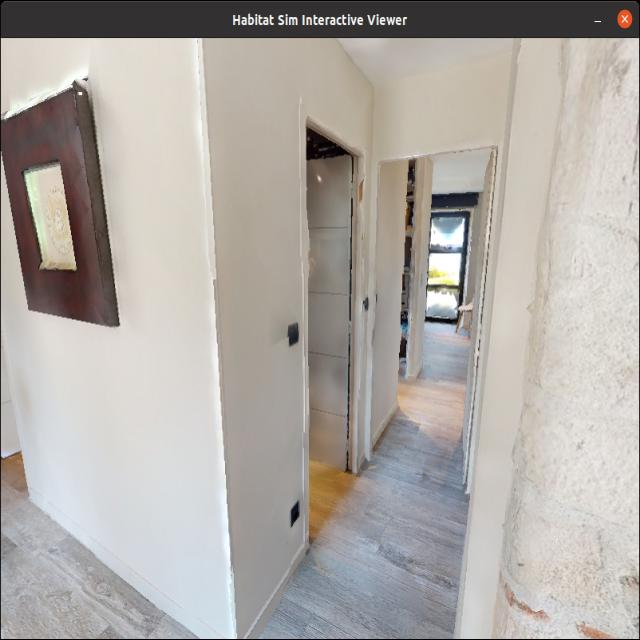door-frame: (173, 36, 551, 640), (358, 123, 505, 528)
